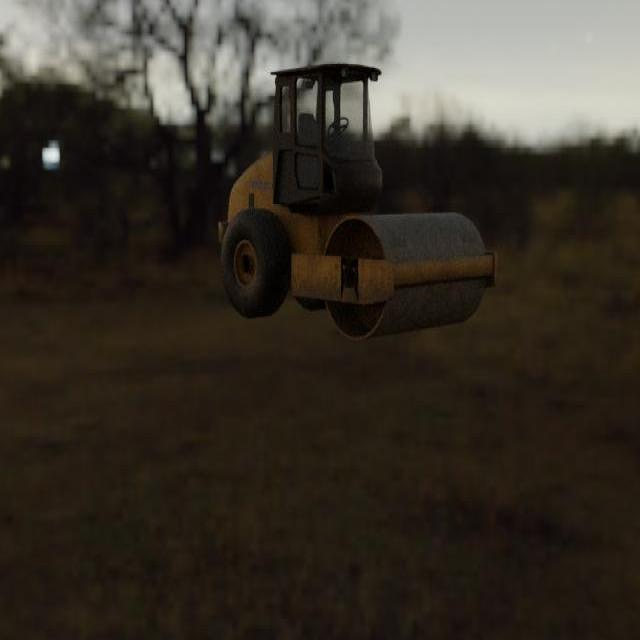Roller: (218, 61, 498, 340)
